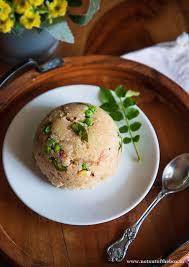upma: (34, 100, 126, 186)
